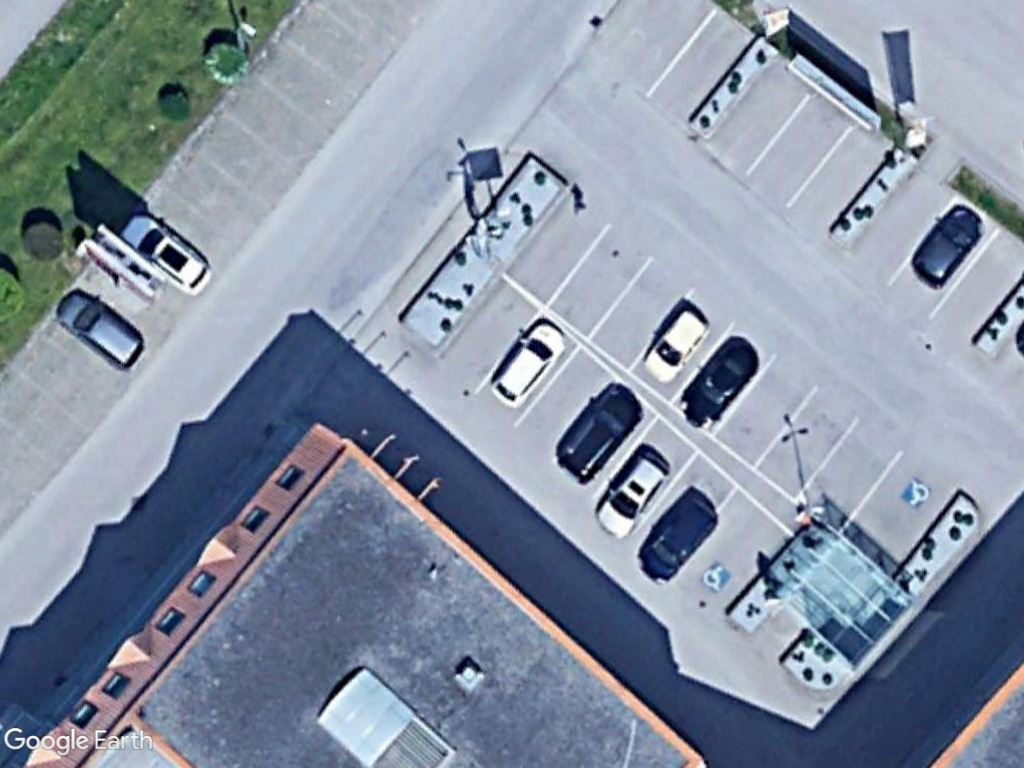car: (550, 383, 648, 479), (632, 495, 722, 586), (53, 288, 148, 374), (585, 448, 673, 539), (117, 213, 213, 296), (677, 339, 761, 431), (488, 320, 568, 409), (908, 203, 988, 290), (636, 305, 712, 386)
